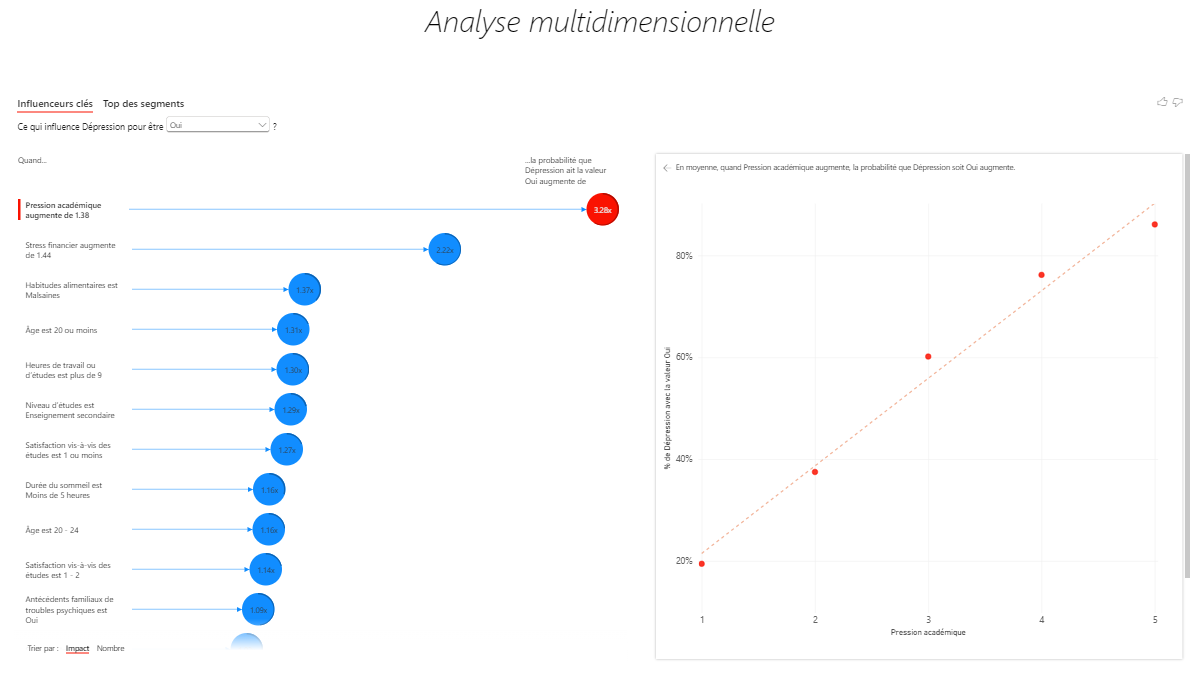

This screenshot's page, from the dashboard's own definition file:
{"tool":"powerbi","page":{"name":"Analyse multifactorielle","canvas":[1920,1080],"ordinal":6},"visuals":[{"type":"keyDriversVisual","fields":{"ExplainBy":["Données des étudiants.Pression académique","Données des étudiants.Stress financier","Données des étudiants.Satisfaction vis-à-vis des études","Données des étudiants.Durée du sommeil","Données des étudiants.Habitudes alimentaires","Données des étudiants.Niveau d’études","Données des étudiants.Heures de travail ou d’études","Données des étudiants.Âge","Données des étudiants.Sexe","Données des étudiants.Antécédents familiaux de troubles psychiques"],"Target":["Données des étudiants.Dépression"]},"box":[0,132,1920,948],"z":0},{"type":"textbox","box":[0,0,1920,86],"z":2000}]}

Visuals, with their boxes in screenshot pixels (x1, y1, x2, y2), scaled from the page's 1920x1080 canvas onto the 1199x673 screenshot:
keyDriversVisual - Données des étudiants.Pression académique x Données des étudiants.Stress financier: {"left": 0, "top": 82, "right": 1198, "bottom": 672}
textbox: {"left": 0, "top": 0, "right": 1198, "bottom": 54}
